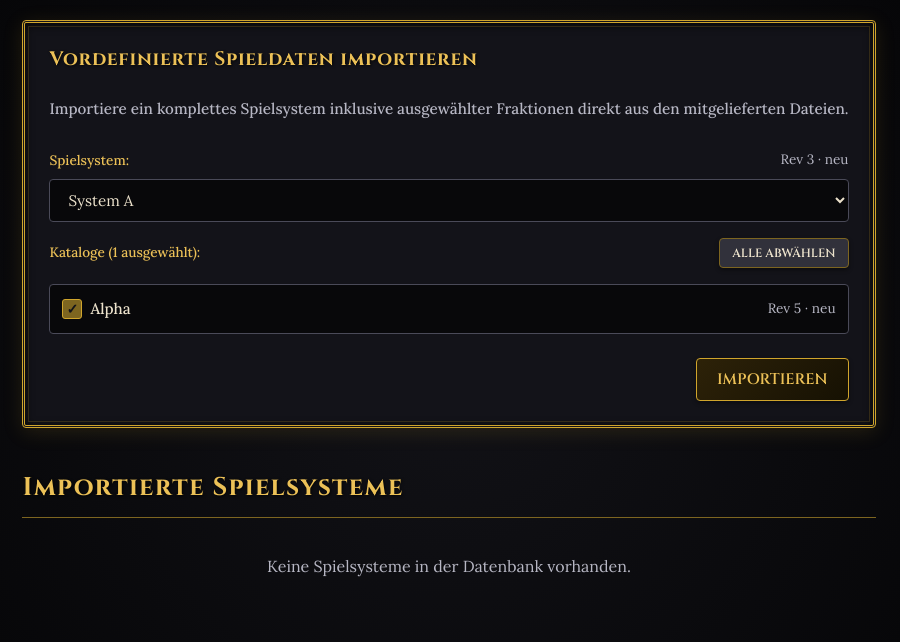
Test case: Importer Component › Revision labels in the bundle importer › updates the shown game-system revision when the dropdown selection changes
The image size is (900, 642).
Expected: the text with test id "selected-system-revision" reads "Rev 3 · neu", [780,150,848,168]
Select "System B" in the dropdown: (449, 200) [50,179,848,222]
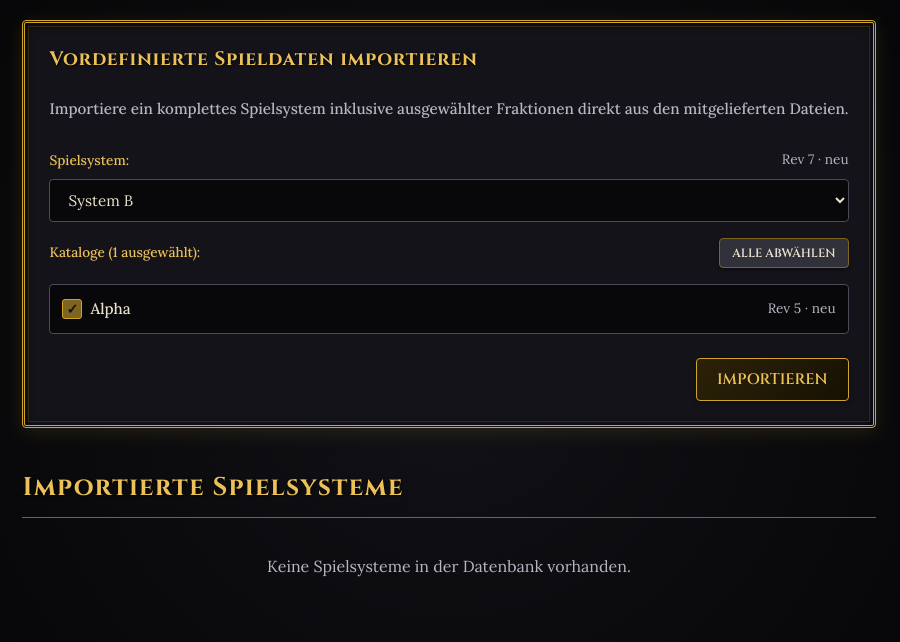
Now the text with test id "selected-system-revision" reads "Rev 7 · neu", box [782,150,848,168]
